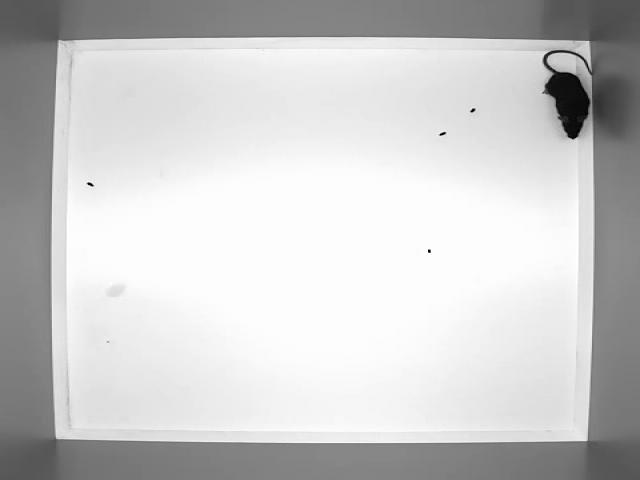Tikus: (542, 48, 594, 141)
